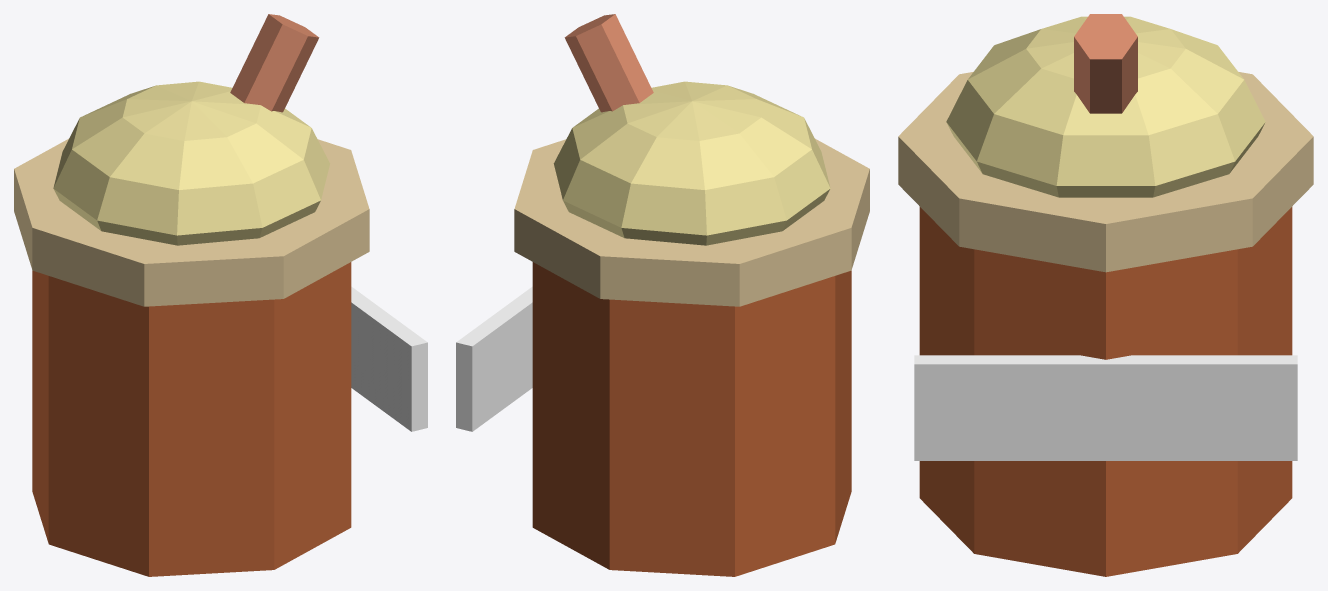
Rendered from pot.glb.
3 renders of one model, left to right at view 1: azimuth 30°, elevation 25°; view 2: azimuth 150°, elevation 25°; view 3: azimuth 270°, elevation 25°, orthographic. The views are drawn at different scales.
Visible parts, largest first — view 1: p_cyl.033, p_sph.264, p_cyl.034, p_box.827, p_cyl.035; view 2: p_cyl.033, p_sph.264, p_cyl.034, p_box.827, p_cyl.035; view 3: p_cyl.033, p_box.827, p_sph.264, p_cyl.034, p_cyl.035.
Part boxes in pixels (bbox=[...]): p_cyl.033: bbox=[32, 262, 351, 576]; p_sph.264: bbox=[53, 81, 330, 245]; p_cyl.034: bbox=[14, 138, 369, 306]; p_box.827: bbox=[351, 286, 427, 431]; p_cyl.035: bbox=[230, 14, 319, 112]; p_cyl.033: bbox=[532, 262, 851, 576]; p_sph.264: bbox=[553, 81, 830, 245]; p_cyl.034: bbox=[514, 138, 869, 306]; p_box.827: bbox=[456, 286, 532, 431]; p_cyl.035: bbox=[564, 14, 653, 112]; p_cyl.033: bbox=[919, 207, 1292, 576]; p_box.827: bbox=[914, 355, 1297, 460]; p_sph.264: bbox=[946, 16, 1265, 197]; p_cyl.034: bbox=[898, 72, 1313, 272]; p_cyl.035: bbox=[1074, 14, 1137, 113].
Size of the model in its own units: 0.78 by 1.1 by 0.78.
